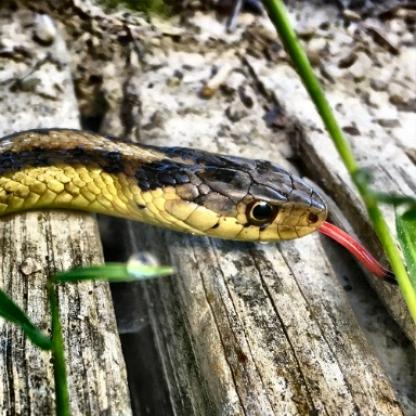Snake: (3, 120, 334, 260)
